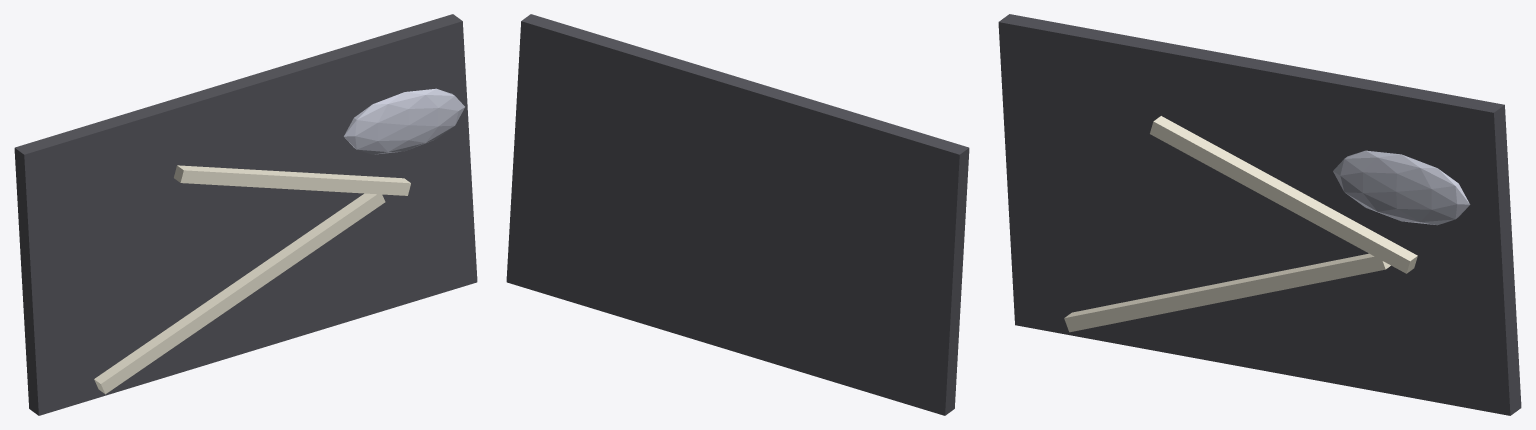
The model's file is 01_weathering_wear_overlay_1.glb.
3 renders of one model, left to right at view 1: azimuth 30°, elevation 25°; view 2: azimuth 150°, elevation 25°; view 3: azimuth 330°, elevation 25°, orthographic. The views are drawn at different scales.
Visible parts, largest first — view 1: wear_plate, scratch_a, rust_or_moss_spot, scratch_b; view 2: wear_plate; view 3: wear_plate, rust_or_moss_spot, scratch_b, scratch_a.
Boxes of the visible parts, box(x1,y1,x2,y2) form: wear_plate: box(14, 14, 477, 415); scratch_a: box(94, 193, 385, 394); rust_or_moss_spot: box(344, 88, 464, 154); scratch_b: box(174, 165, 410, 195); wear_plate: box(506, 14, 969, 415); wear_plate: box(998, 14, 1521, 415); rust_or_moss_spot: box(1333, 150, 1470, 225); scratch_b: box(1150, 116, 1417, 273); scratch_a: box(1064, 253, 1390, 332).
Size of the model in its own units: 1.34 by 0.8241 by 0.134.
